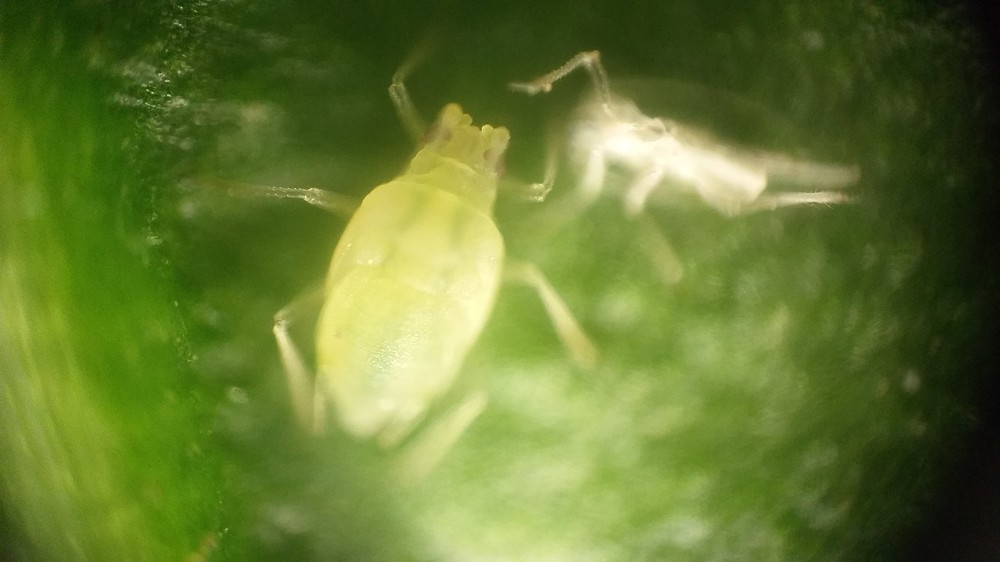Pulgon: (242, 44, 624, 497)
